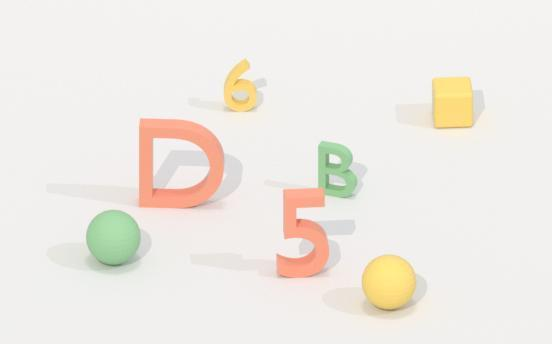chu_khoi: (139, 119, 223, 207), (318, 141, 357, 197)
hinh_cau: (86, 210, 140, 265), (362, 255, 416, 309)
lap_phuong: (432, 77, 473, 127)
so_khoi: (276, 188, 328, 277), (224, 59, 256, 111)
